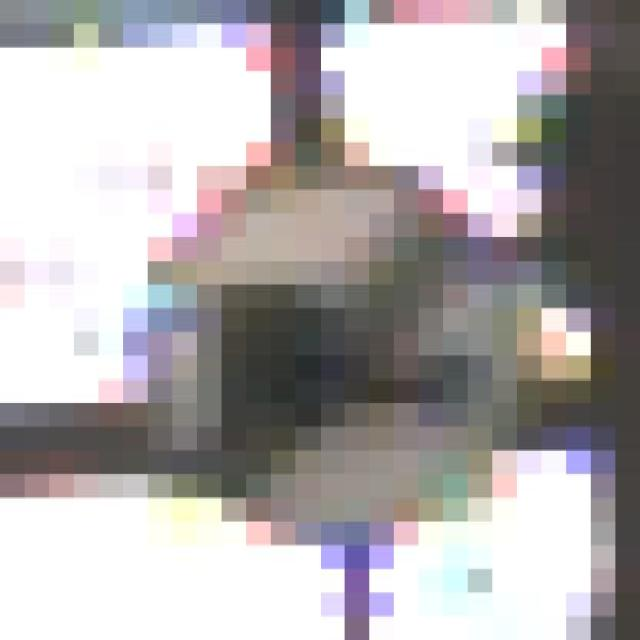Overtaking by trucks is prohibited: (99, 118, 566, 570)
